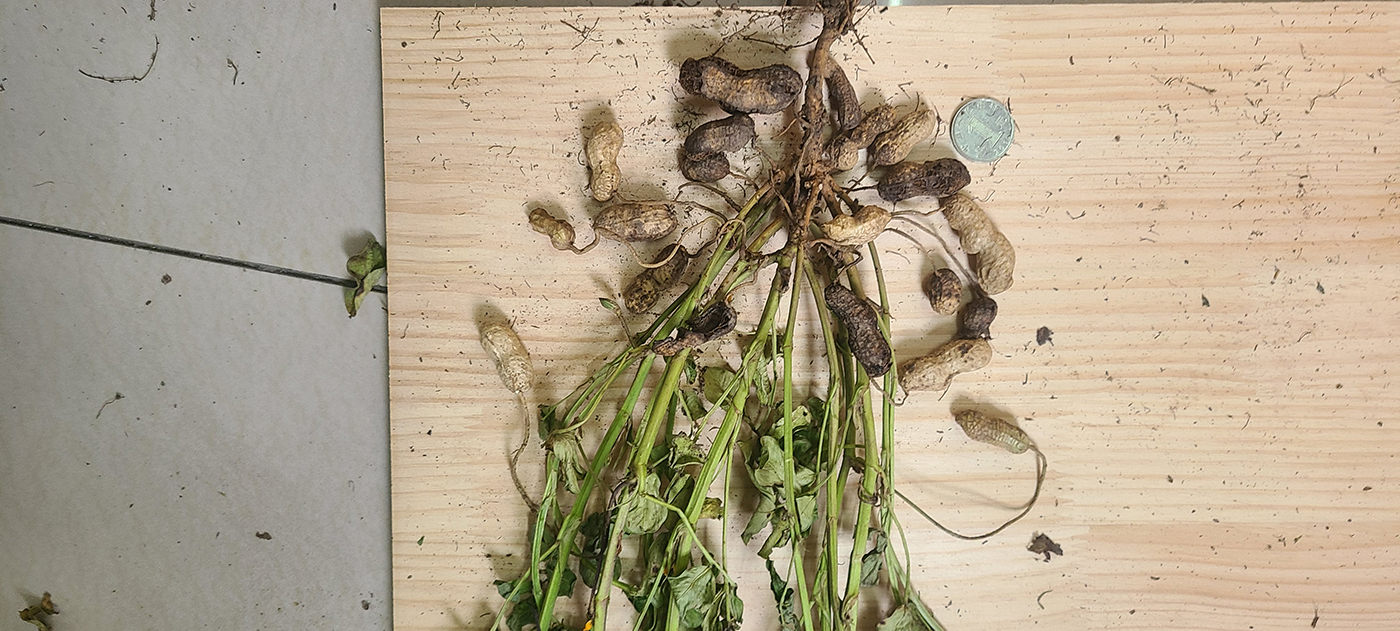h: (900, 299, 997, 391), (940, 196, 1015, 294), (826, 106, 896, 171), (479, 320, 536, 393), (808, 49, 860, 127), (870, 109, 936, 166), (955, 409, 1029, 455), (593, 205, 680, 241), (585, 123, 623, 202), (824, 206, 890, 246), (528, 208, 576, 250), (926, 269, 962, 315)
l: (679, 56, 802, 115), (824, 284, 892, 376), (680, 115, 753, 182), (650, 302, 737, 354), (625, 244, 688, 312), (878, 159, 972, 201)
